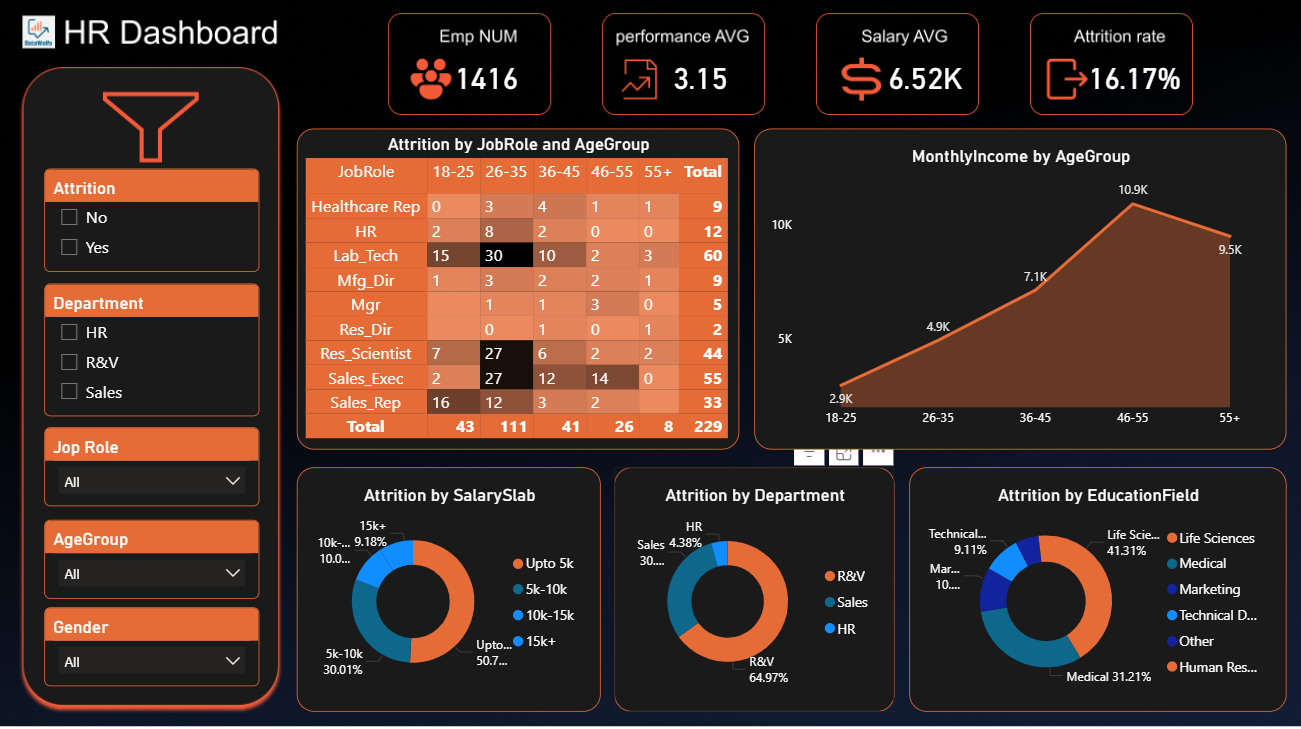

Layout of this report page (visuals, bound fields, positions):
{"tool":"powerbi","page":{"name":"Attrition","canvas":[1280,720],"ordinal":1},"visuals":[{"type":"slicer","title":"Attrition","fields":{"Values":["HR_Analytics.Attrition"]},"box":[45,169.7,211.2,101.2],"z":0},{"type":"slicer","title":"Department","fields":{"Values":["HR_Analytics.Department"]},"box":[45,282.5,211.2,130],"z":1000},{"type":"slicer","title":"Jop Role","fields":{"Values":["HR_Analytics.JobRole"]},"box":[45,423.8,211.2,77.5],"z":2000},{"type":"slicer","title":"AgeGroup","fields":{"Values":["HR_Analytics.AgeGroup"]},"box":[45,513.8,211.2,77.5],"z":3000},{"type":"slicer","title":"Gender","fields":{"Values":["HR_Analytics.Gender"]},"box":[45,600,211.2,77.5],"z":4000},{"type":"card","title":"performance AVG","fields":{"Values":["Avg(HR_Analytics.PerformanceRating)"]},"box":[647.5,46.2,83.8,65],"z":5000},{"type":"card","title":"Emp NUM","fields":{"Values":["CountNonNull(HR_Analytics.EmpID)"]},"box":[433.8,46.2,90,65],"z":6000},{"type":"card","title":"Salary AVG","fields":{"Values":["Avg(HR_Analytics.MonthlyIncome)"]},"box":[858.8,46.2,102.5,65],"z":7000},{"type":"card","title":"Attrition rate","fields":{"Values":["HR_Analytics.AttritionPercentage"]},"box":[1045,46.2,140,65],"z":8000},{"type":"donutChart","title":"Attrition by Department","fields":{"Category":["HR_Analytics.Department"],"Y":["CountNonNull(HR_Analytics.Attrition)"]},"box":[605,462.5,275,240],"z":9000},{"type":"areaChart","title":"MonthlyIncome by AgeGroup","fields":{"Y":["Avg(HR_Analytics.MonthlyIncome)"],"Category":["HR_Analytics.AgeGroup"]},"box":[742.5,129.8,522.5,315],"z":10000},{"type":"pivotTable","title":"Attrition by JobRole and AgeGroup","fields":{"Columns":["HR_Analytics.AgeGroup"],"Rows":["HR_Analytics.JobRole"],"Values":["Sum(HR_Analytics.AttritionCount)"]},"box":[293.8,129.8,434,315],"z":11000},{"type":"donutChart","title":"Attrition by SalarySlab","fields":{"Y":["CountNonNull(HR_Analytics.Attrition)"],"Category":["HR_Analytics.SalarySlab"]},"box":[293.8,462.5,298.8,240],"z":12000},{"type":"donutChart","title":"Attrition by EducationField","fields":{"Y":["CountNonNull(HR_Analytics.Attrition)"],"Category":["HR_Analytics.EducationField"]},"box":[895,462.5,370,240],"z":12001}]}

Visuals, with their boxes in screenshot pixels (x1, y1, x2, y2), scaled from the page's 1280x720 canvas onto the 1301x729 screenshot:
"Attrition" slicer: 46:172:260:274
"Department" slicer: 46:286:260:418
"Jop Role" slicer: 46:429:260:508
"AgeGroup" slicer: 46:520:260:599
"Gender" slicer: 46:608:260:686
"performance AVG" card: 658:47:743:113
"Emp NUM" card: 441:47:532:113
"Salary AVG" card: 873:47:977:113
"Attrition rate" card: 1062:47:1204:113
"Attrition by Department" donutChart: 615:468:894:711
"MonthlyIncome by AgeGroup" areaChart: 755:131:1286:450
"Attrition by JobRole and AgeGroup" pivotTable: 299:131:740:450
"Attrition by SalarySlab" donutChart: 299:468:602:711
"Attrition by EducationField" donutChart: 910:468:1286:711
